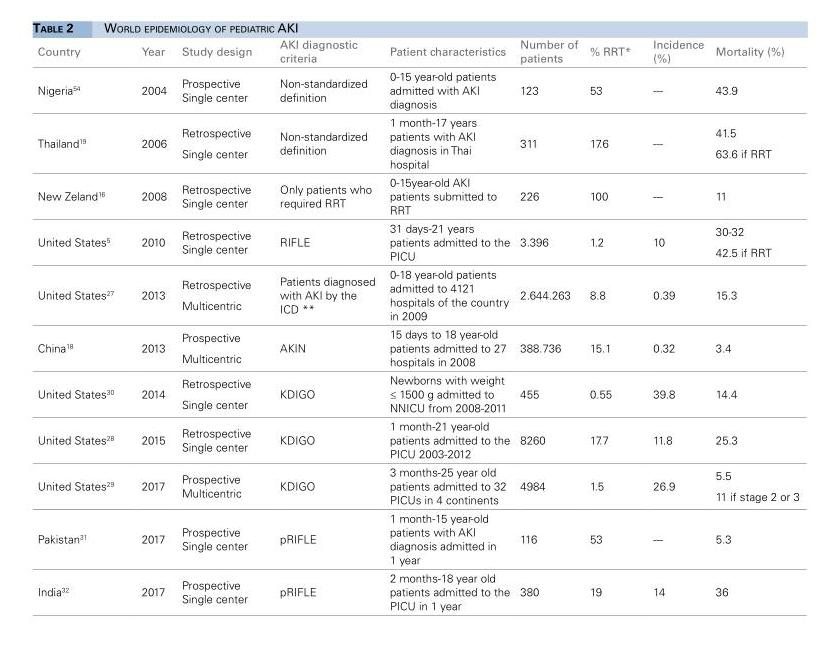table: (37, 36, 799, 612)
table column: (382, 36, 515, 612), (266, 36, 382, 612), (174, 36, 266, 612), (37, 36, 127, 612), (710, 36, 799, 612), (515, 36, 584, 612), (642, 36, 710, 612), (584, 36, 642, 612), (127, 36, 174, 612)
table column header: (37, 36, 799, 66)
table row: (37, 112, 799, 172), (37, 264, 799, 324), (37, 508, 799, 568), (37, 66, 799, 112), (37, 172, 799, 218), (37, 218, 799, 264), (37, 324, 799, 370), (37, 370, 799, 416), (37, 416, 799, 462), (37, 462, 799, 508), (37, 568, 799, 612), (37, 36, 799, 66)
